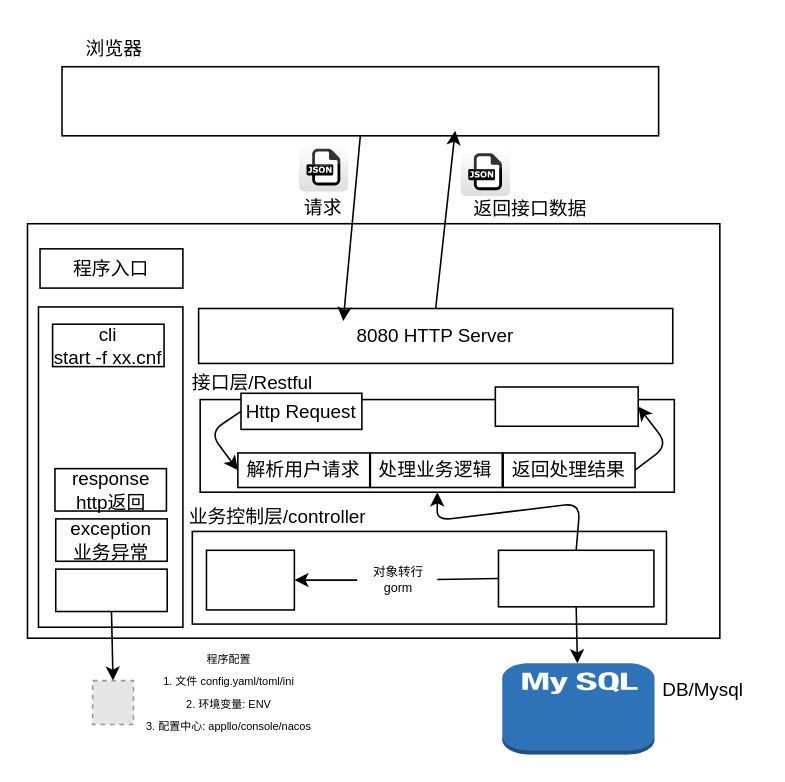
The diagram is 785 pixels wide and 782 high, and some of its shapes have lost their labels. Grey dashed boxes stand in for pictures. Each missing label, with the centre of its shape:
"conf 程序配置" goes at (x=110, y=590).
"controller" goes at (x=575, y=578).
"Http Response" goes at (x=566, y=405).
"model" goes at (x=249, y=579).
"公网浏览器" goes at (x=359, y=100).
